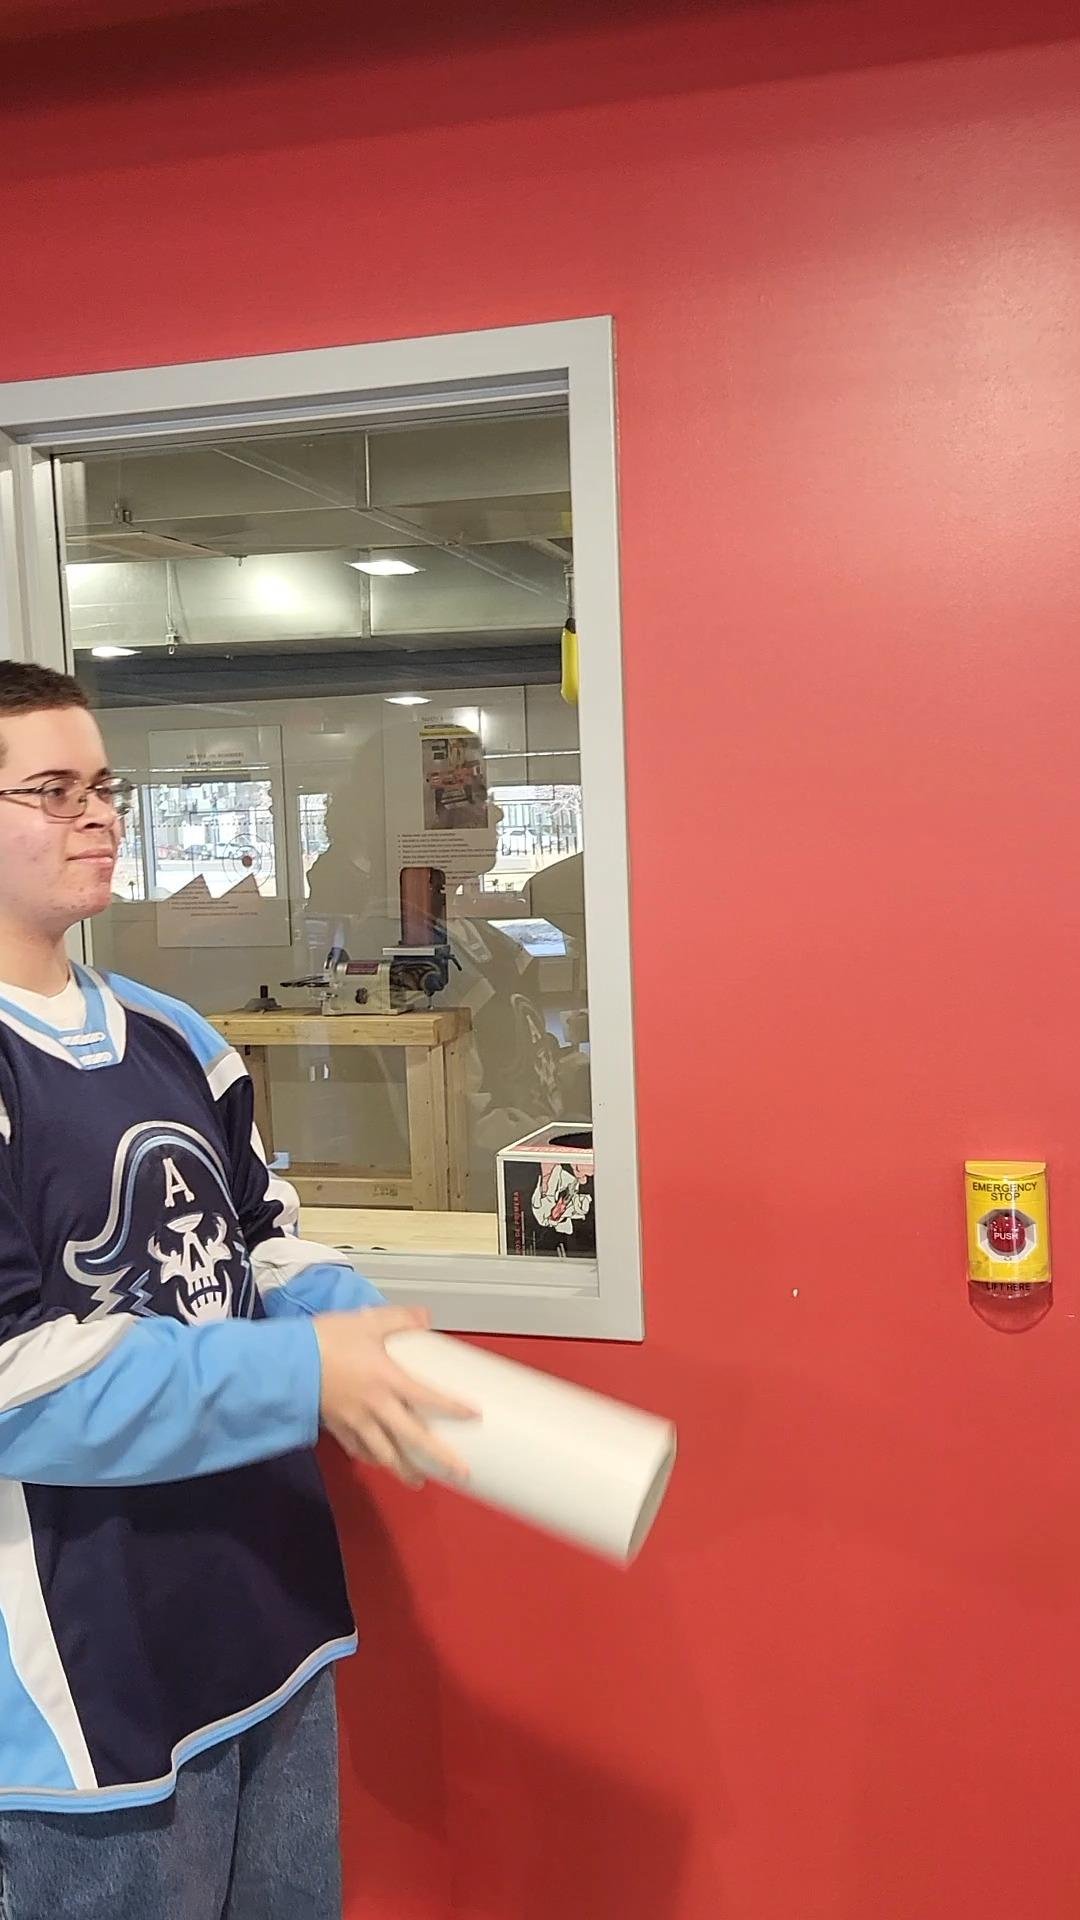coral: (336, 1311, 696, 1571)
